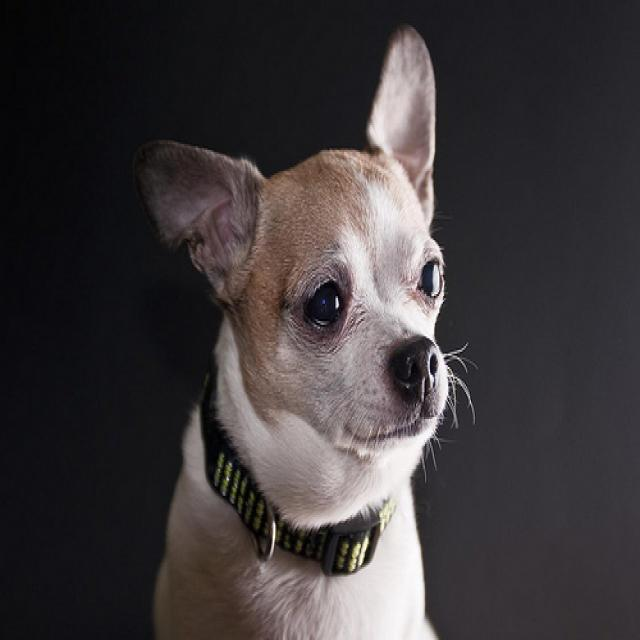dog-chihuahua: (127, 13, 484, 636)
